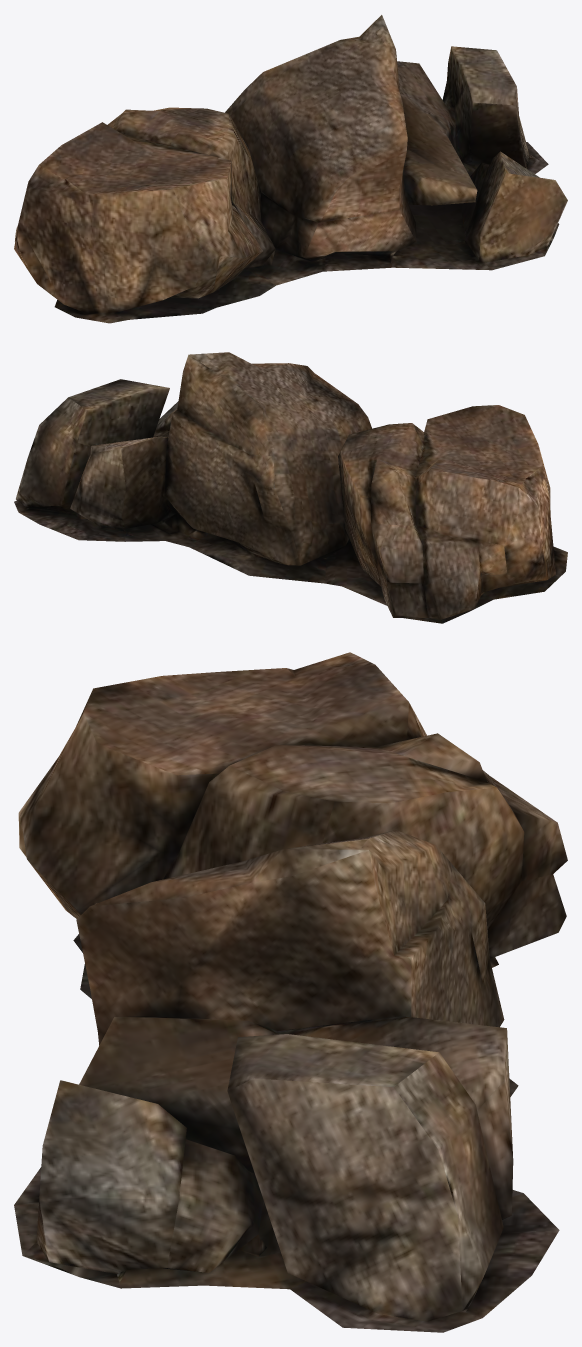
File: namaqualand_boulder_02.glb
3 renders of one model, top to bottom at view 1: azimuth 30°, elevation 25°; view 2: azimuth 150°, elevation 25°; view 3: azimuth 270°, elevation 25°, orthographic. The views are drawn at different scales.
Parts seen in each view (by area): view 1: boulder_02; view 2: boulder_02; view 3: boulder_02.
Boxes of the visible parts, x1,y1,x2,y2 form: boulder_02: (14, 15, 567, 323); boulder_02: (14, 352, 567, 623); boulder_02: (14, 652, 567, 1332).
Bounding box in the file's own units: 2.51 × 0.8562 × 1.23.
Materials: 1 (1 with a texture image).
